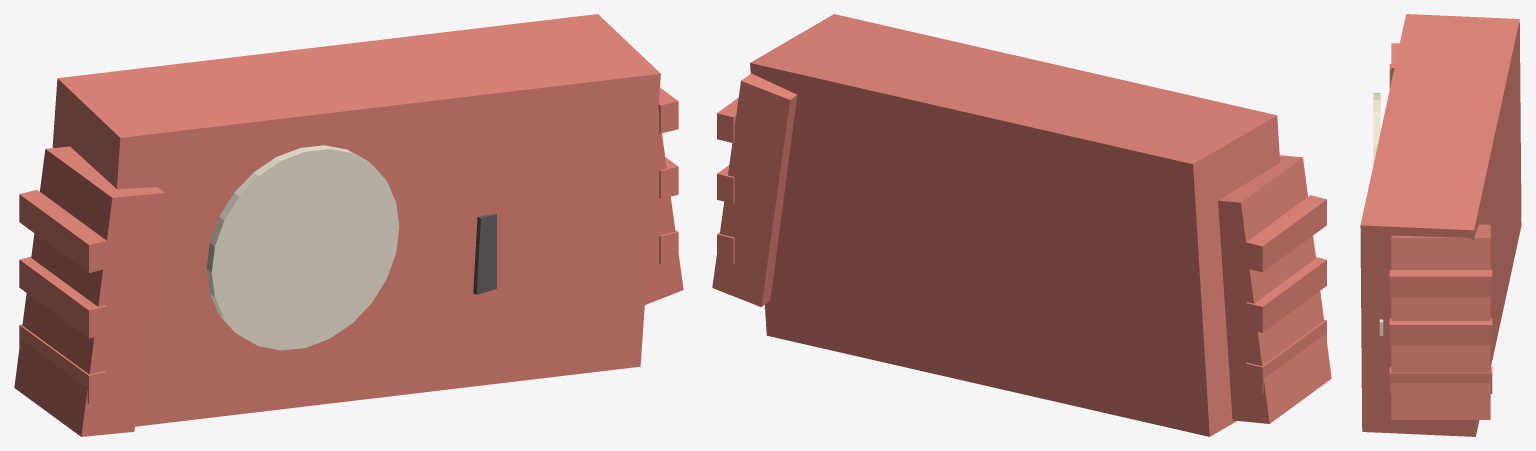
File: item_66_spicy_snack.glb
3 renders of one model, left to right at view 1: azimuth 30°, elevation 25°; view 2: azimuth 150°, elevation 25°; view 3: azimuth 270°, elevation 25°, orthographic. The views are drawn at different scales.
Visible parts, largest first — view 1: I66_Body, I66_Label, I66_Crimp0, I66_Serr02, I66_Serr01, I66_Crimp1, I66_Sticker, I66_Serr00, I66_Serr12, I66_Serr11; view 2: I66_Body, I66_Crimp0, I66_Crimp1, I66_Serr02, I66_Serr01, I66_Serr00, I66_Serr12; view 3: I66_Body, I66_Crimp1, I66_Serr12, I66_Serr11, I66_Serr10, I66_Label, I66_Crimp0.
Part boxes in pixels (box(x1,y1,x2,y2)): I66_Body: box(52, 14, 660, 426); I66_Label: box(206, 145, 399, 350); I66_Crimp0: box(14, 146, 165, 436); I66_Serr02: box(19, 190, 106, 272); I66_Serr01: box(19, 257, 106, 338); I66_Crimp1: box(645, 109, 683, 304); I66_Sticker: box(473, 214, 496, 294); I66_Serr00: box(19, 324, 106, 403); I66_Serr12: box(658, 88, 678, 133); I66_Serr11: box(659, 157, 678, 198); I66_Body: box(750, 14, 1279, 436); I66_Crimp0: box(1218, 155, 1331, 423); I66_Crimp1: box(712, 73, 797, 306); I66_Serr02: box(1246, 195, 1326, 272); I66_Serr01: box(1246, 257, 1326, 332); I66_Serr00: box(1246, 319, 1326, 393); I66_Serr12: box(717, 97, 738, 143); I66_Body: box(1360, 14, 1521, 436); I66_Crimp1: box(1391, 224, 1490, 419); I66_Serr12: box(1389, 270, 1492, 297); I66_Serr11: box(1389, 318, 1492, 345); I66_Serr10: box(1389, 366, 1492, 393); I66_Label: box(1373, 93, 1380, 164); I66_Crimp0: box(1391, 43, 1399, 81).
Bounding box in the file's own units: 0.1348 × 0.0699 × 0.0423.
